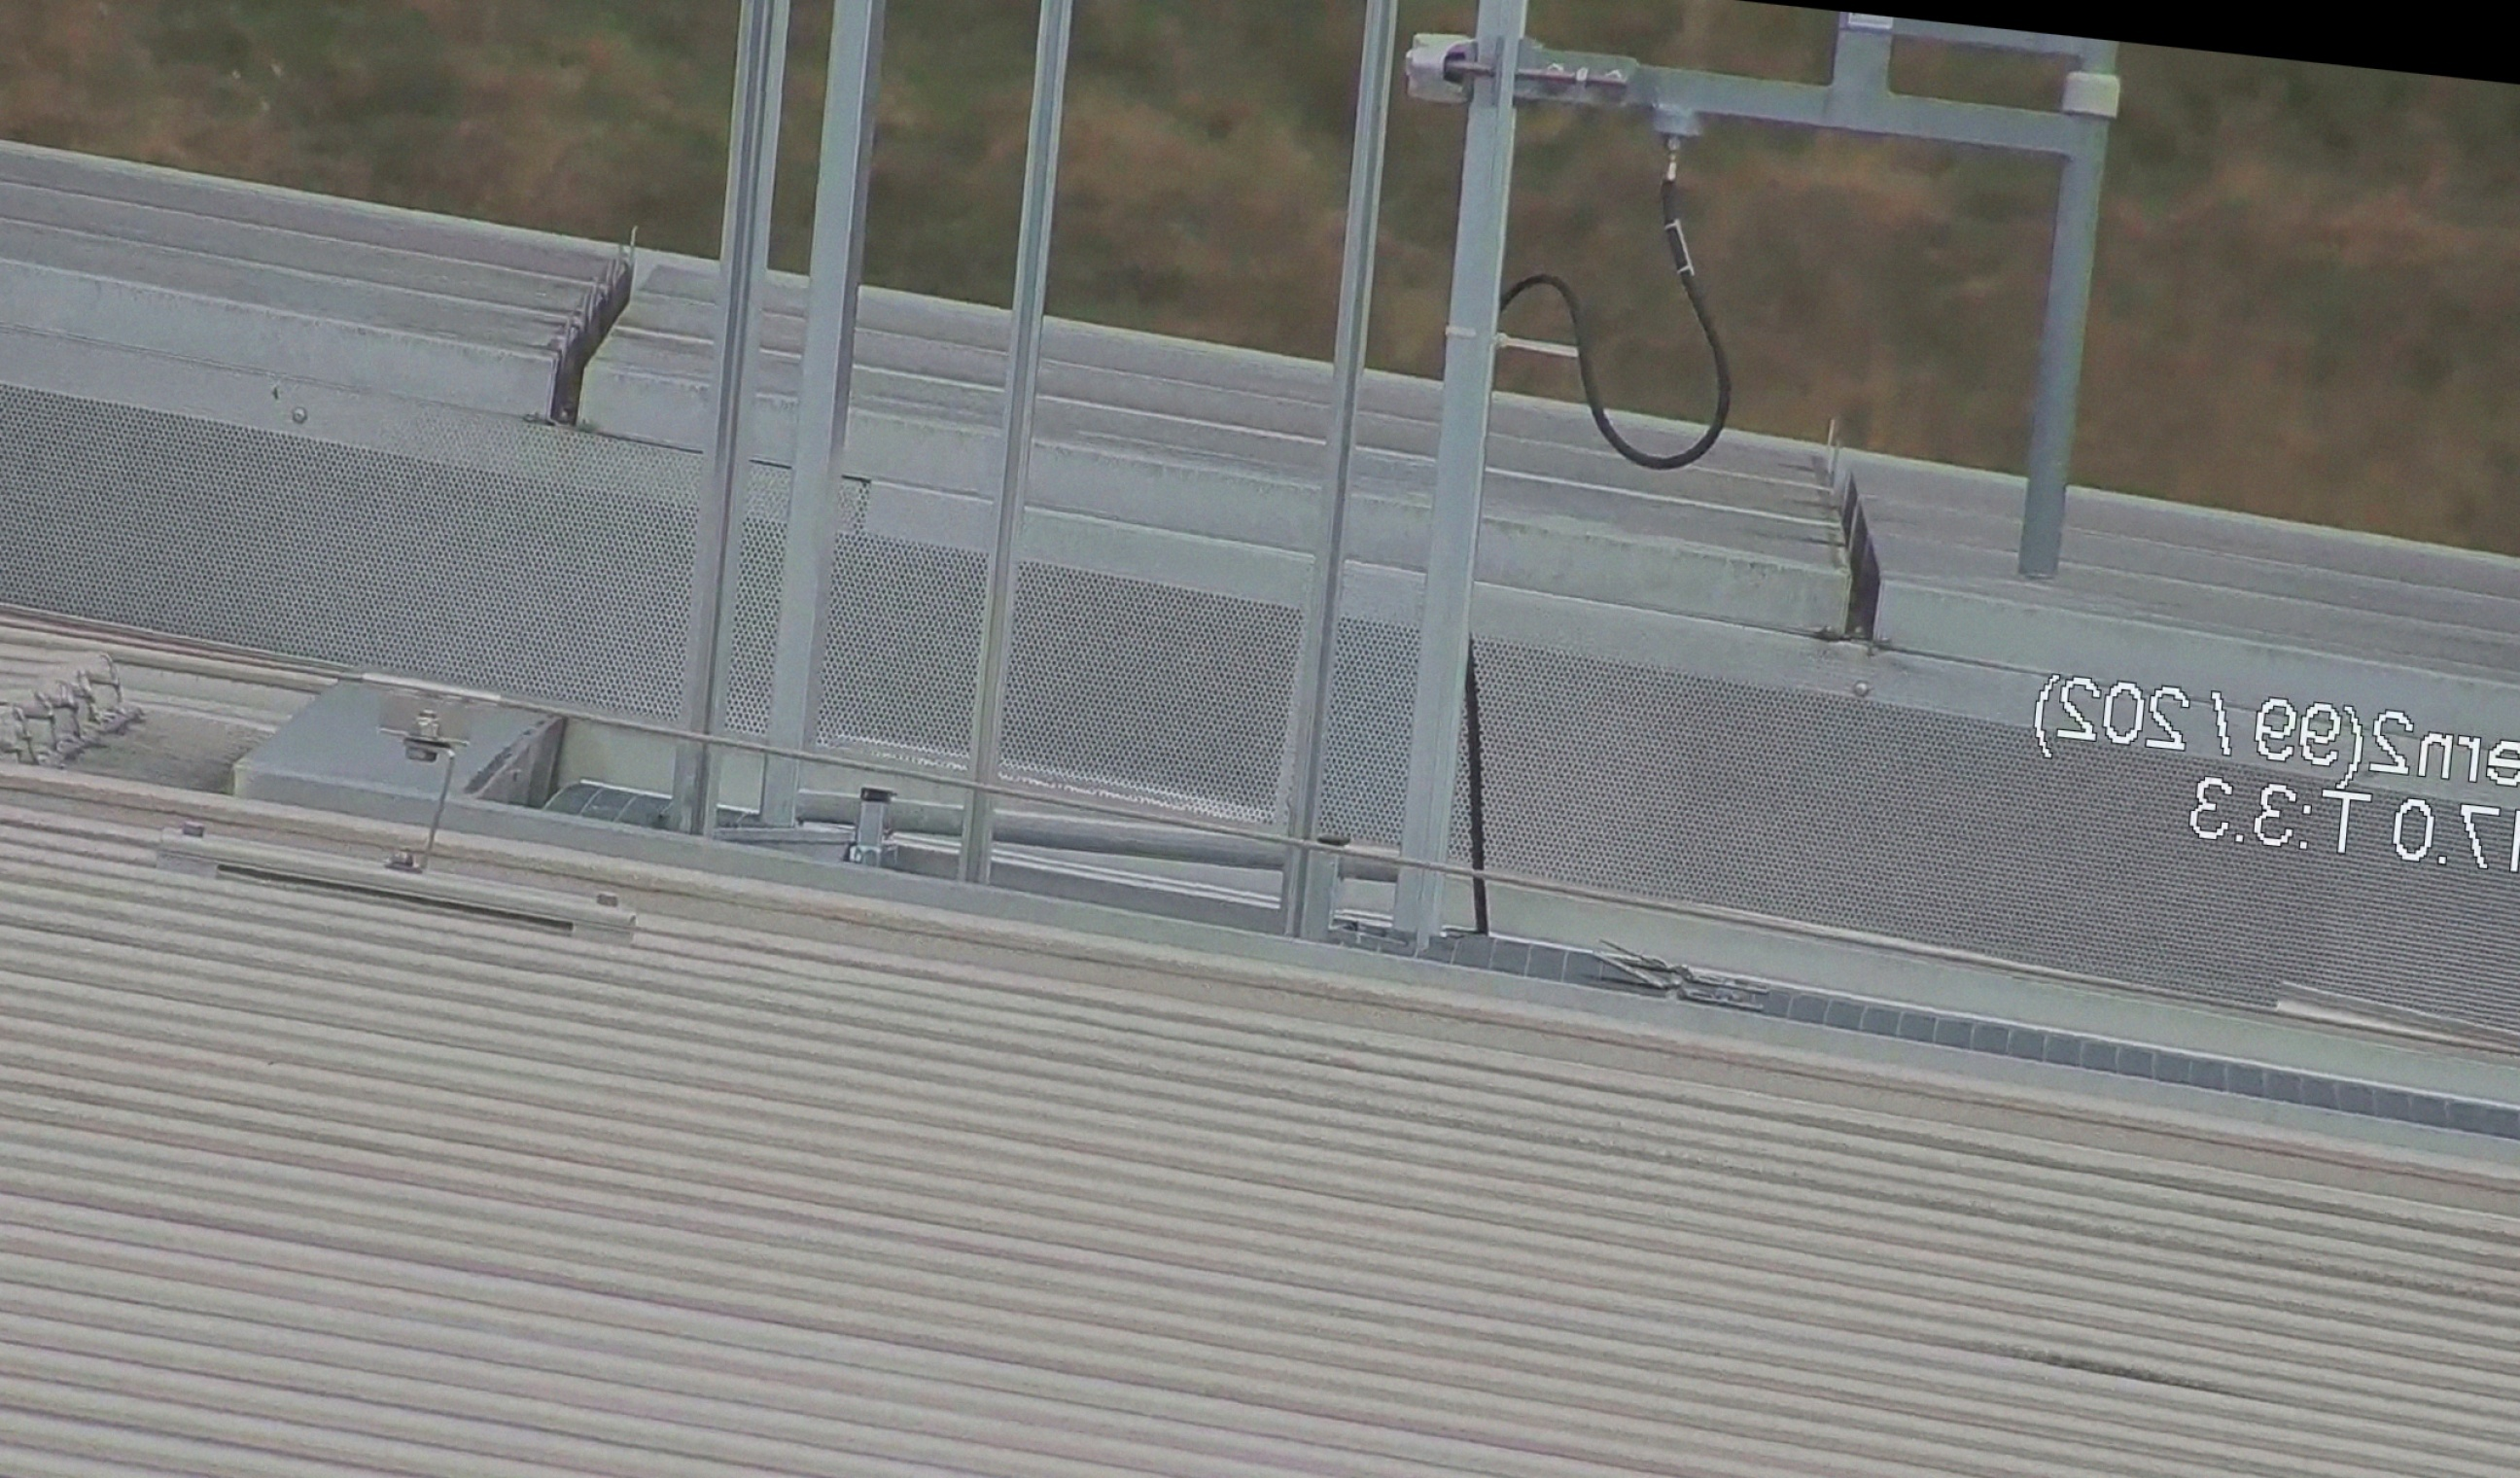Other: (510, 215, 645, 440)
